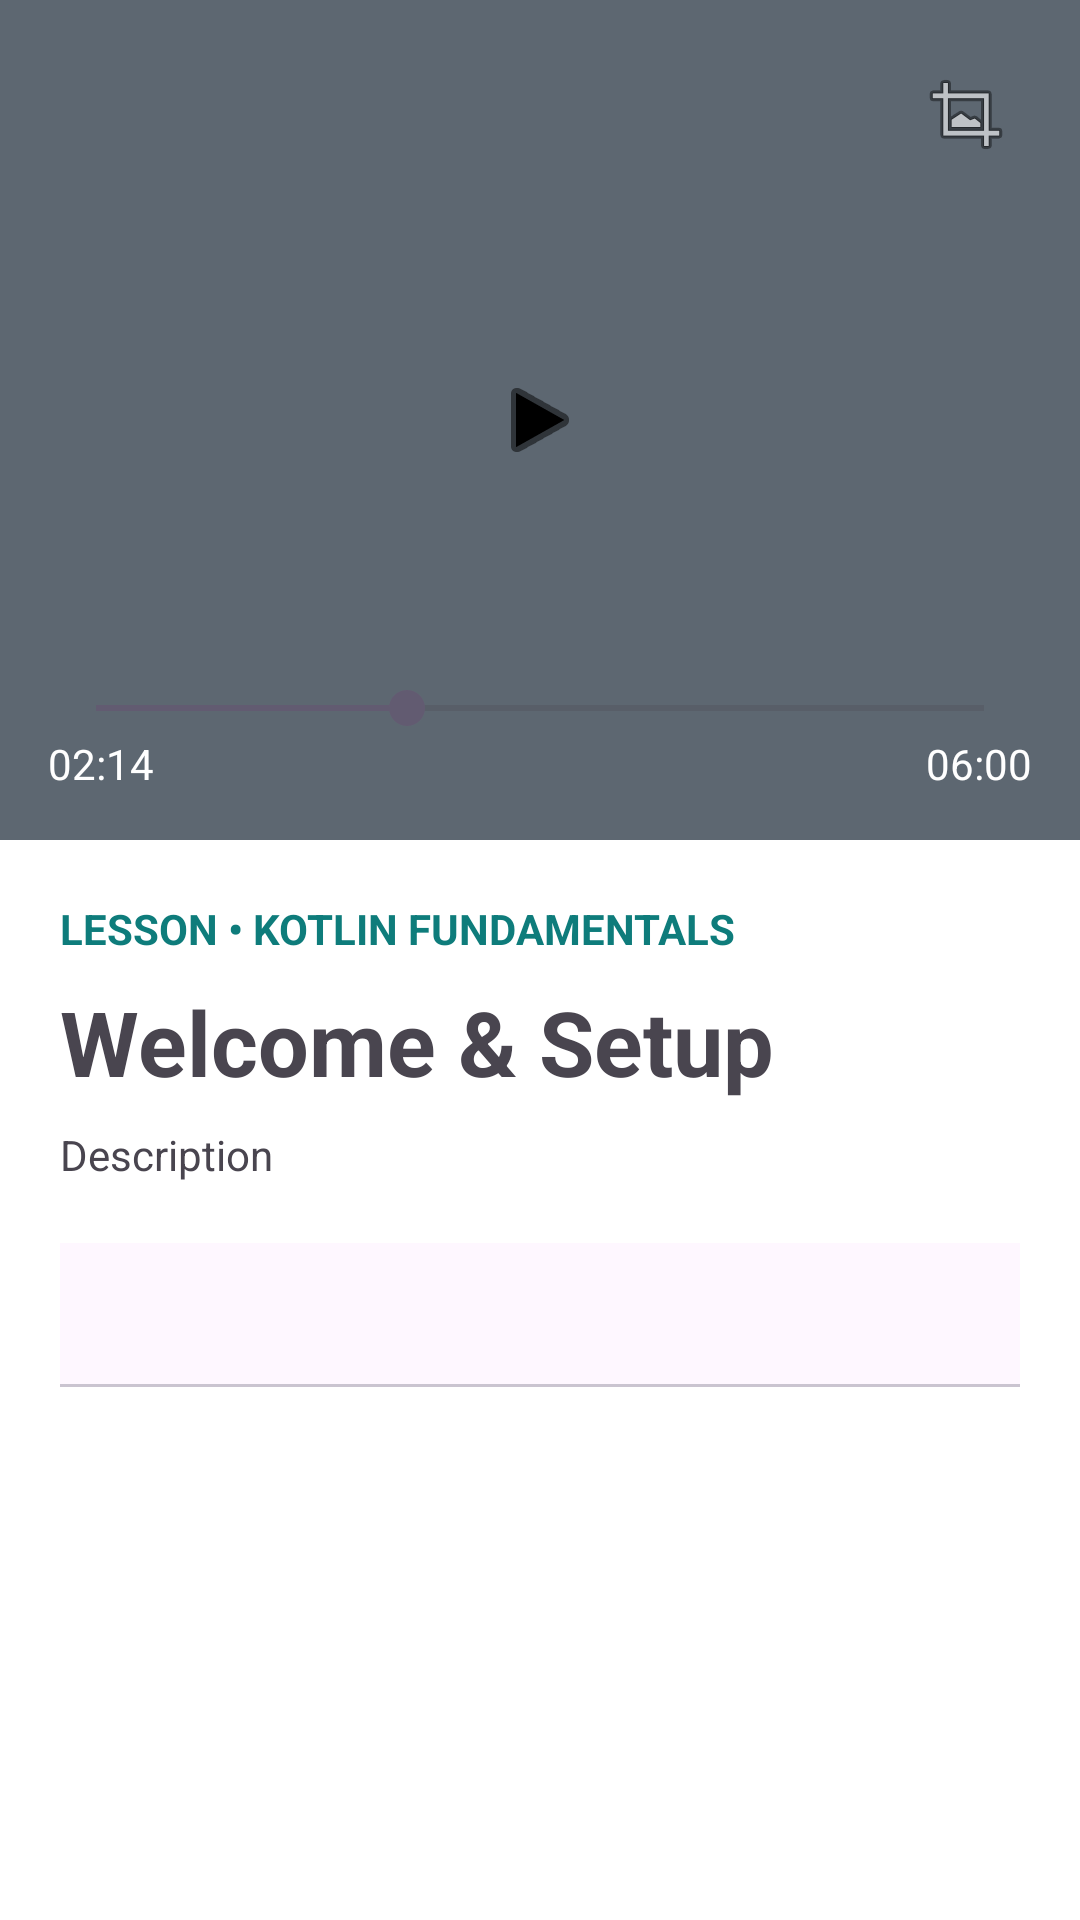

Screen size 1080w x 1920h. Icon name, then its center in pixels as [x,y]:
crop: [966,114]
play: [540,420]
